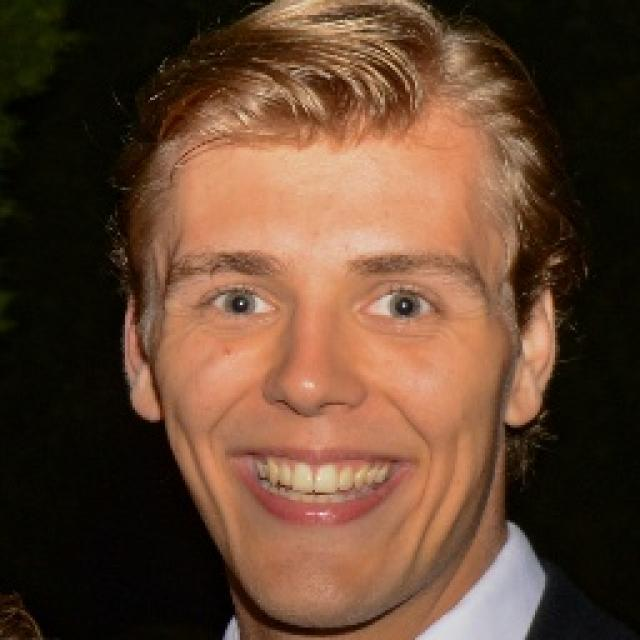earlobe: (502, 374, 540, 428), (128, 375, 164, 423)
eye: (364, 287, 445, 326), (198, 285, 274, 320)
nose: (268, 394, 358, 444)
wholeear: (502, 264, 559, 428), (122, 271, 164, 423)
